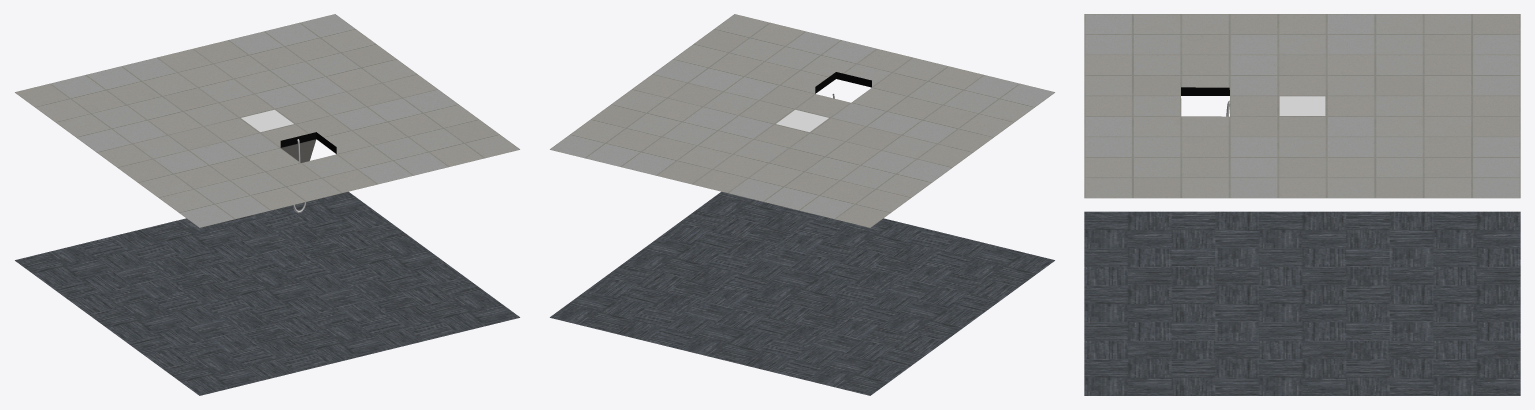
File: BackroomsTile_ChairRope.fbx
The picture shows the model from 3 angles, left to right: view 1: azimuth 30°, elevation 25°; view 2: azimuth 150°, elevation 25°; view 3: azimuth 270°, elevation 25°; orthographic projection. The views are drawn at different scales.
Parts seen in each view (by area): view 1: Ceiling, Floor; view 2: Ceiling, Floor; view 3: Floor, Ceiling.
Part boxes in pixels (x1,y1,x2,y2): Ceiling: (15,14,519,227); Floor: (15,191,519,395); Ceiling: (550,14,1054,227); Floor: (550,191,1054,395); Floor: (1084,211,1520,395); Ceiling: (1084,14,1520,198).
Size of the model in its own units: 16 by 8.34 by 16.
